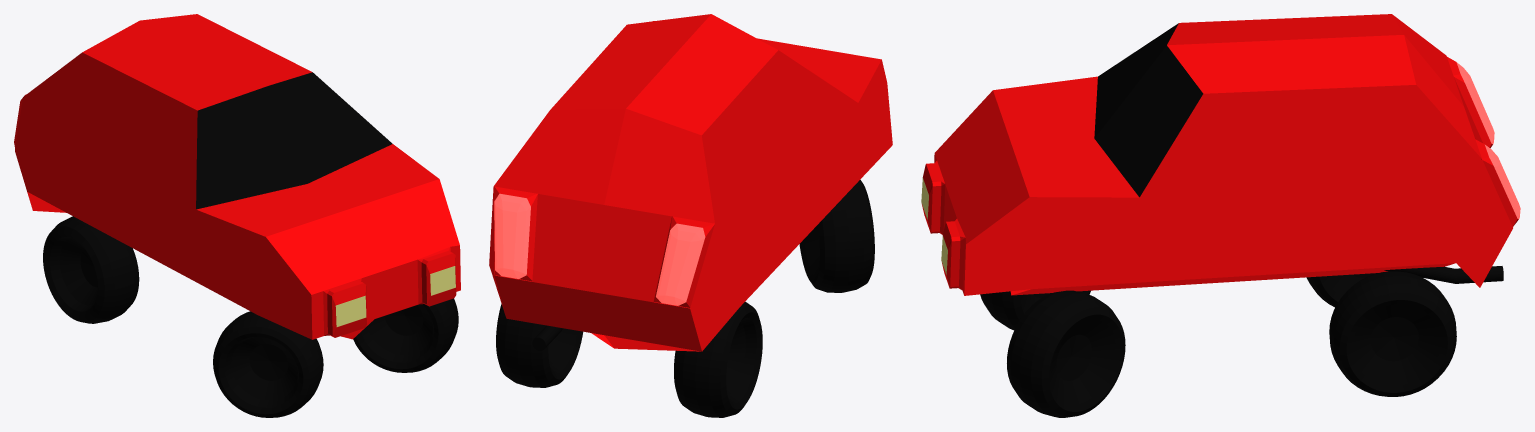
Rendered from frogCar.fbx.
3 renders of one model, left to right at view 1: azimuth 30°, elevation 25°; view 2: azimuth 150°, elevation 25°; view 3: azimuth 270°, elevation 25°, orthographic. The views are drawn at different scales.
Visible parts, largest first — view 1: Cube, Torus.003, Torus.002, Torus; view 2: Cube, Torus.002, Torus.003, Torus.001, Cylinder; view 3: Cube, Torus.001, Torus, Torus.003, Cylinder, Torus.002.
Part boxes in pixels (box(x1,y1,x2,y2)): Cube: box(14, 14, 460, 339); Torus.003: box(213, 311, 323, 417); Torus.002: box(43, 216, 139, 323); Torus: box(353, 298, 458, 372); Cube: box(489, 14, 892, 351); Torus.002: box(674, 301, 762, 417); Torus.003: box(799, 179, 874, 292); Torus.001: box(496, 304, 583, 387); Cylinder: box(532, 325, 562, 350); Cube: box(921, 14, 1520, 295); Torus.001: box(1329, 271, 1456, 396); Torus: box(1007, 290, 1125, 417); Torus.003: box(980, 290, 1090, 330); Cylinder: box(1384, 266, 1503, 283); Torus.002: box(1306, 273, 1377, 307).
Size of the model in its own units: 1280 by 1246 by 2146.
